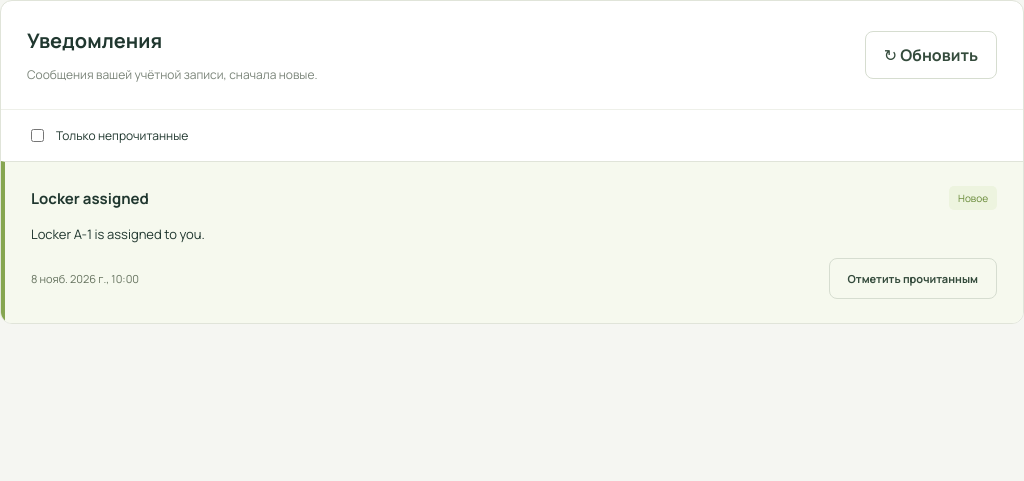
notifications › filters unread notifications and removes a notification only after a successful read
Expected: the heading "Locker assigned" is shown, 31,188 -> 149,208
Click the checkbox: (38, 136) 31,129 -> 44,142
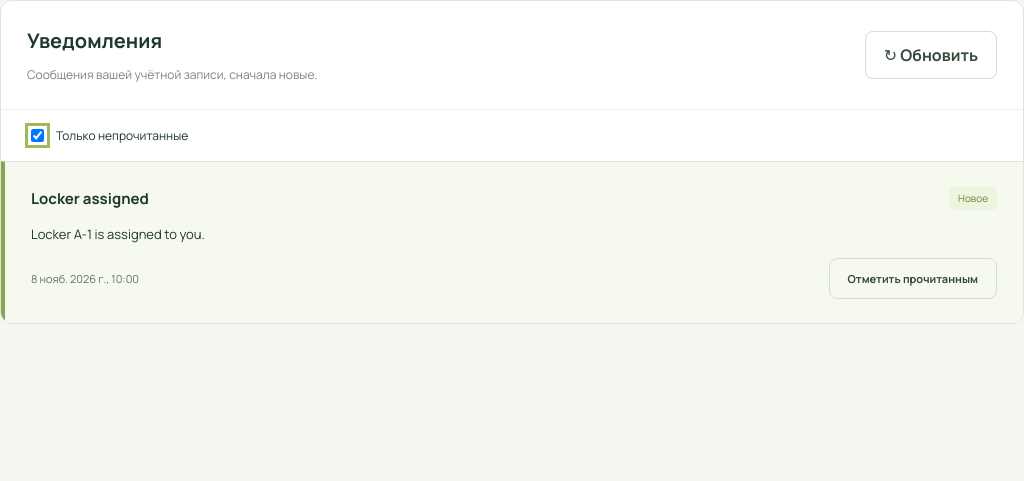
Click the button "Отметить прочитанным": (913, 279) 828,258 -> 997,299
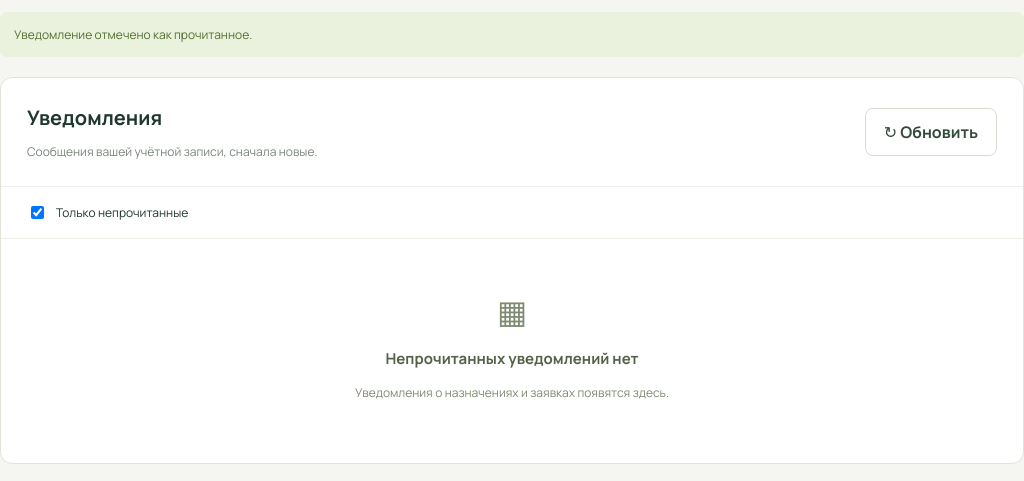
Expected: the heading "Непрочитанных уведомлений нет" is shown, 386,348 -> 638,369
Expected: the message shows "отмечено", 14,26 -> 252,43
